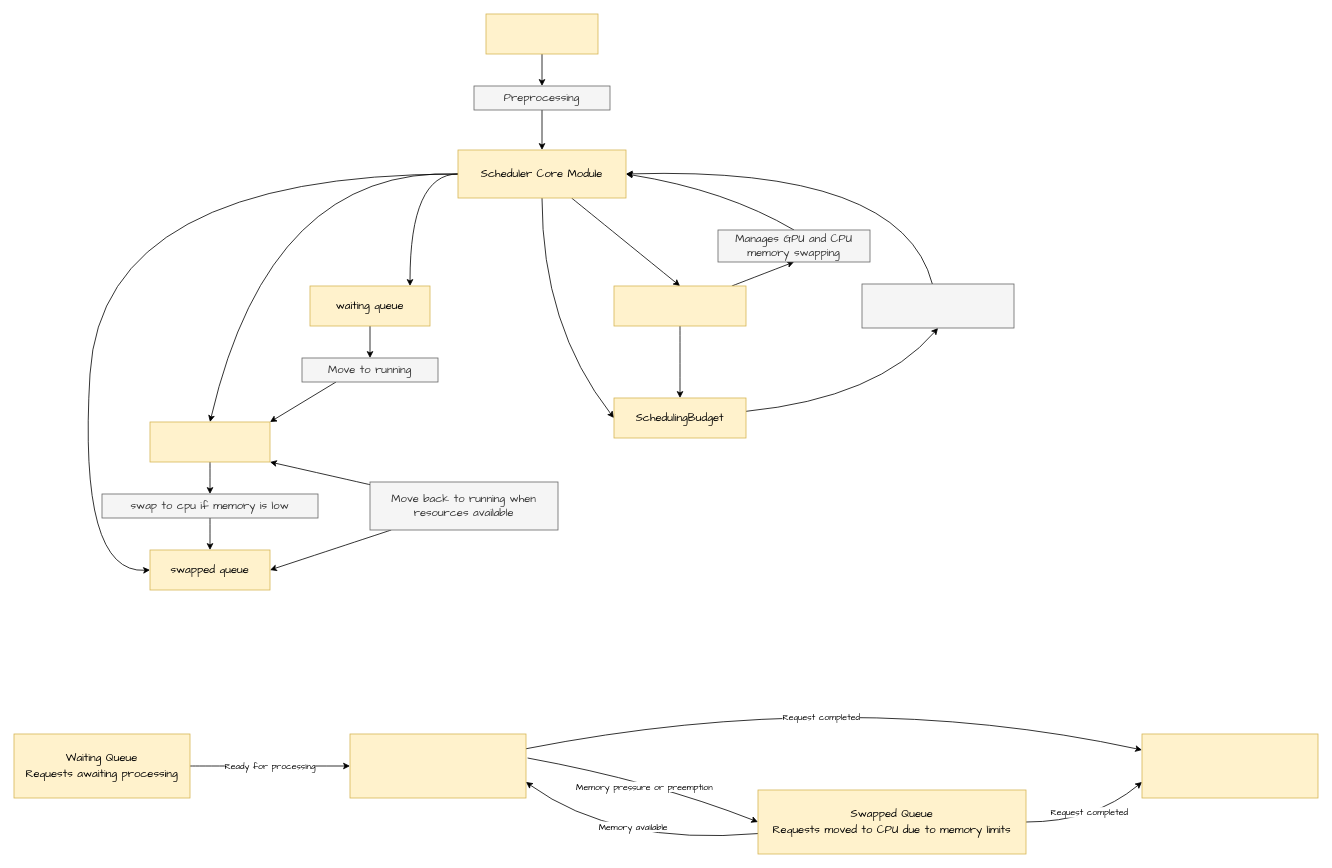
Image size: 1332x868. Some labels were removed from this diagram. The shapes that lost their labels are listed below. From the top down, each one's box as (x1, y1, x2, y2) in pixels, then its label:
(485, 13, 598, 54): Input Requests
(613, 285, 746, 326): BlockSpaceManager
(861, 283, 1014, 328): Token and request allocation control
(149, 421, 270, 462): running queue
(349, 733, 526, 798): Running Queue Active requests in processing
(1141, 733, 1318, 798): Completed Queue Released resources
